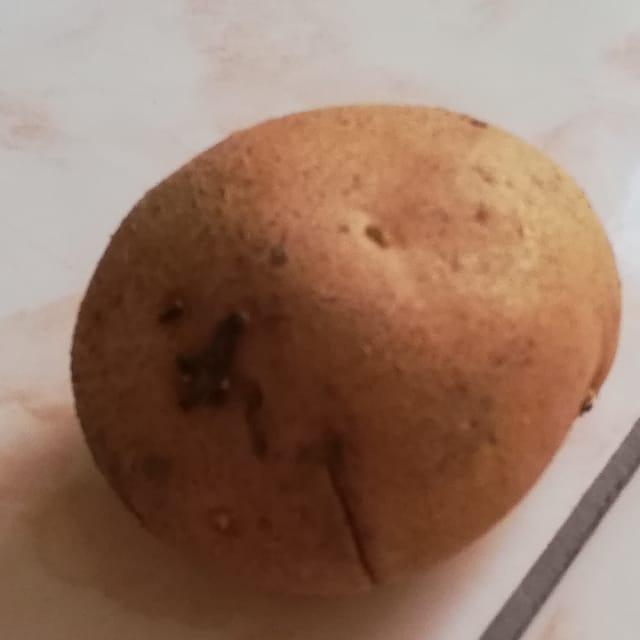potato: (58, 52, 640, 625)
